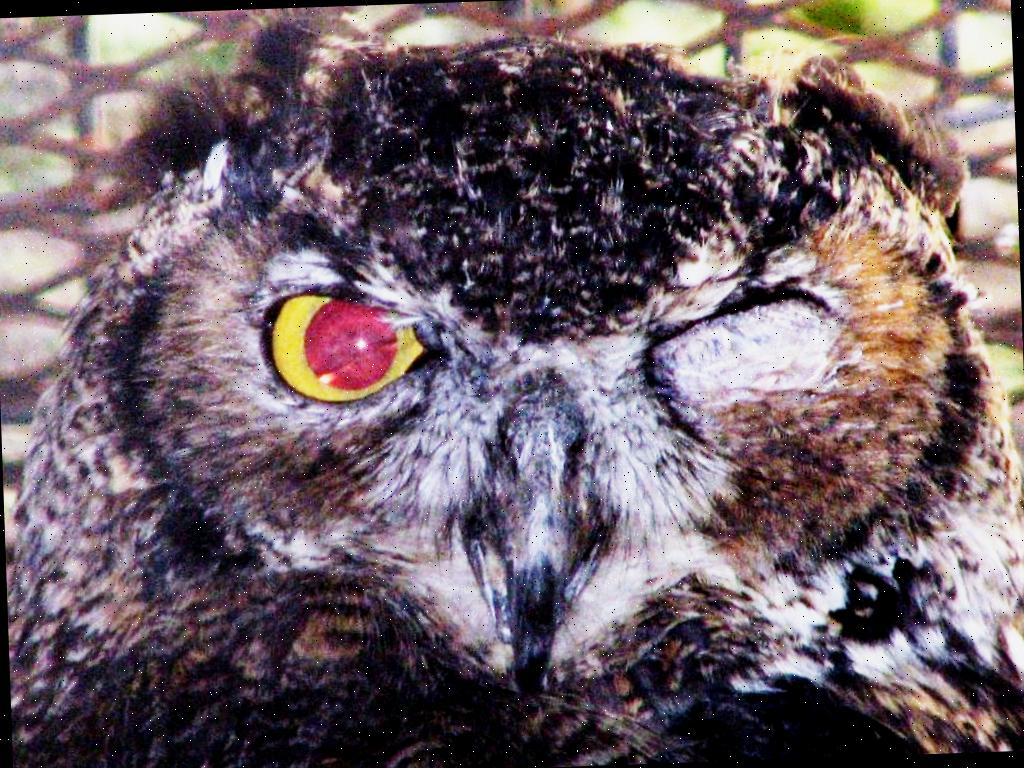Owl: (26, 25, 1020, 726)
